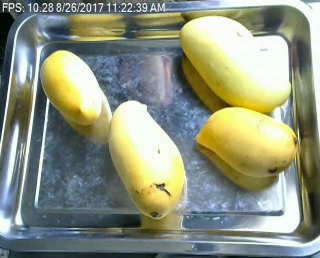Mango: (180, 15, 291, 113), (108, 101, 183, 217), (195, 107, 296, 176), (40, 49, 103, 125)
